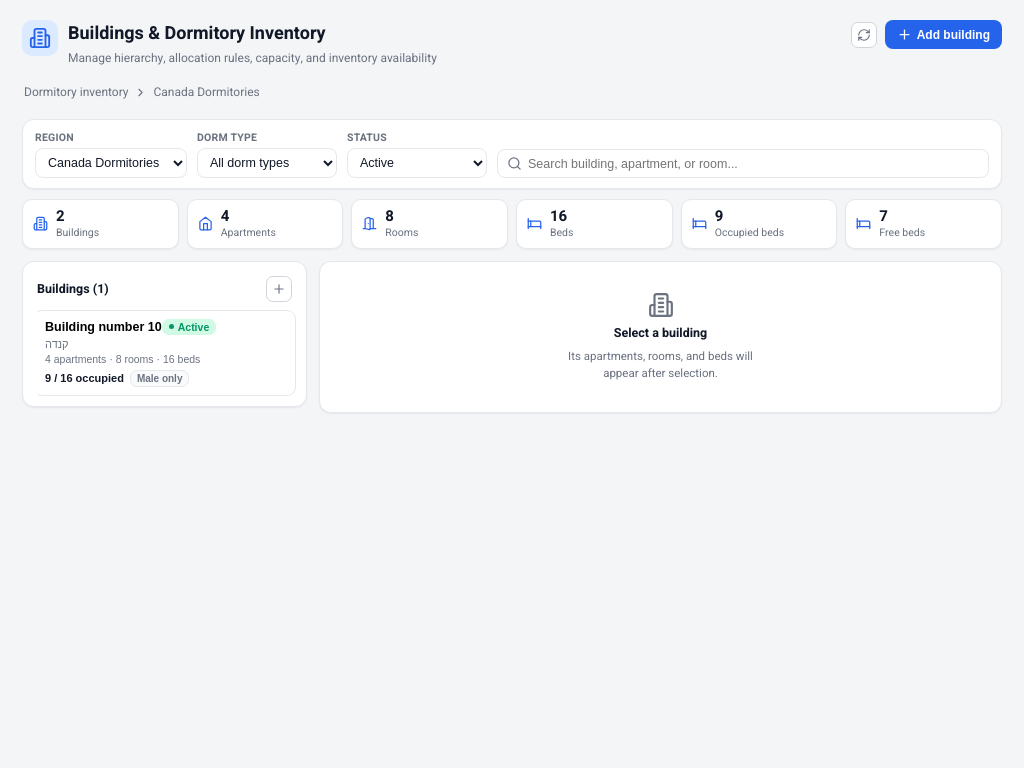
Test: BuildingsPage editors › refuses to save a building without a number
Click the button "Building number 10" at (164, 352), box [33,310,296,396]
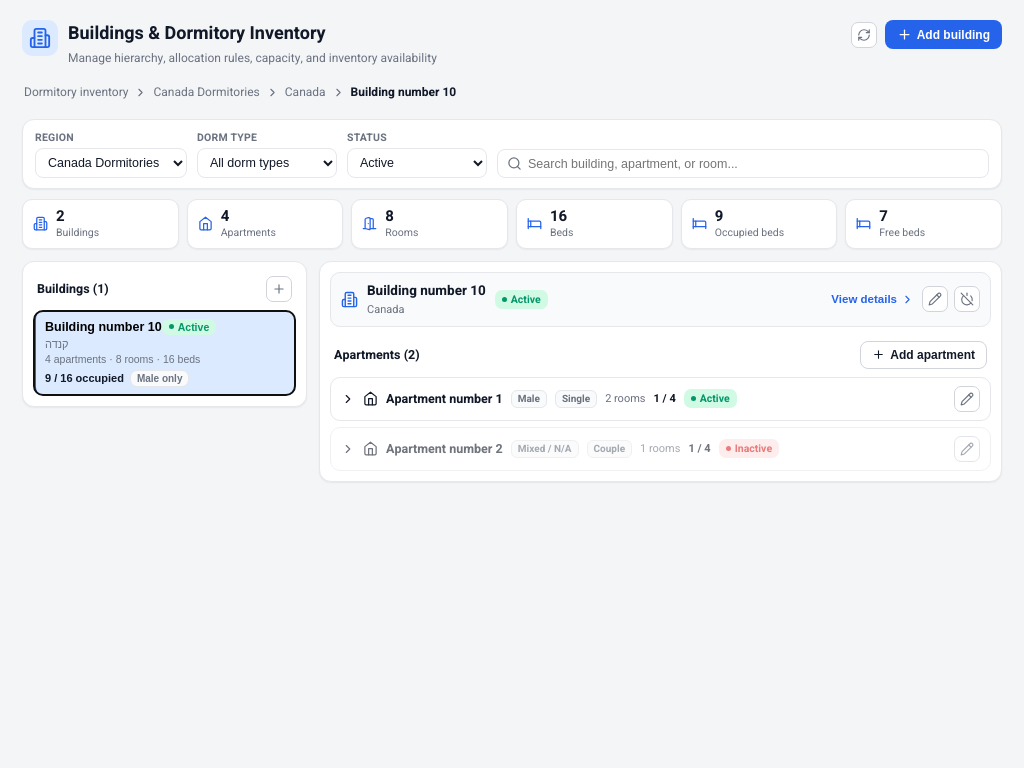
Now the text "Apartment number 1" is shown, box [386,390,503,408]
Click the 1st button named "Edit" at (935, 299), box [922,286,948,312]
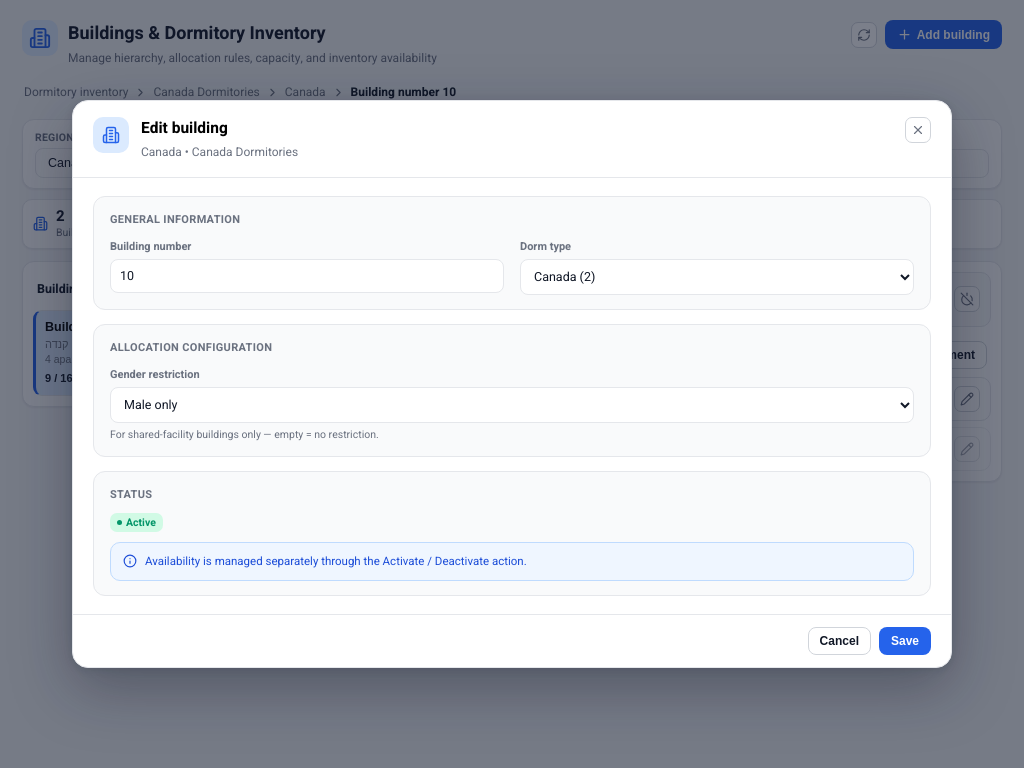
Clear the number field labelled "Building number" at (307, 276), box [110,259,504,293]
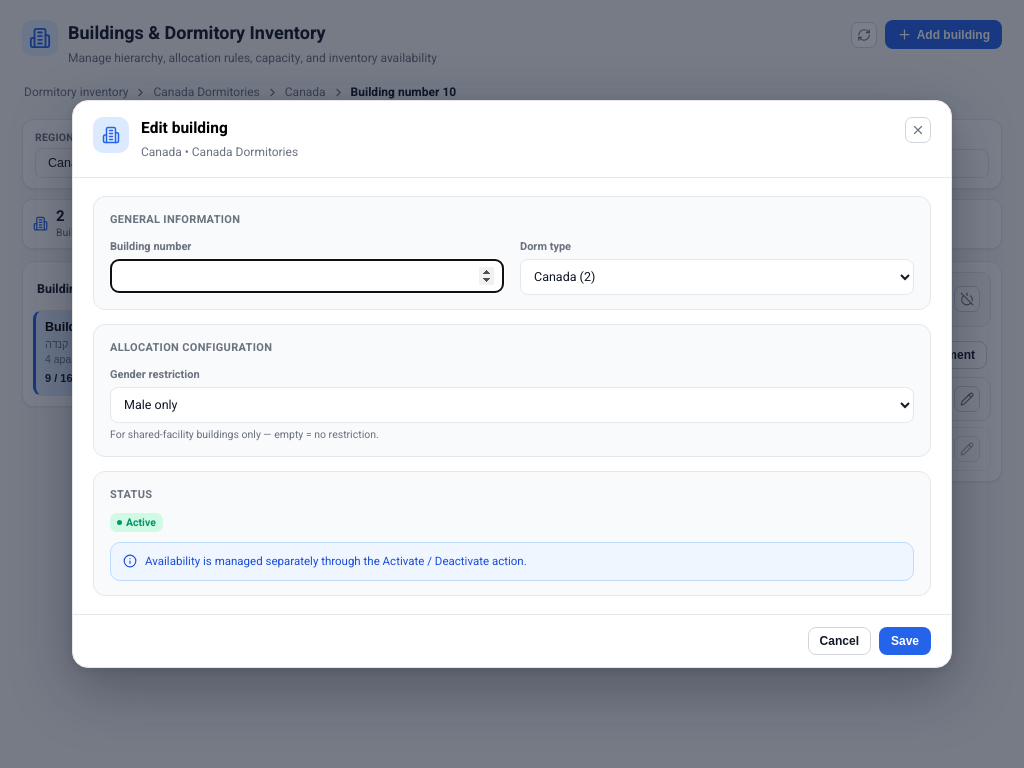
Click the button "Save" at (905, 641), box [879,627,931,655]
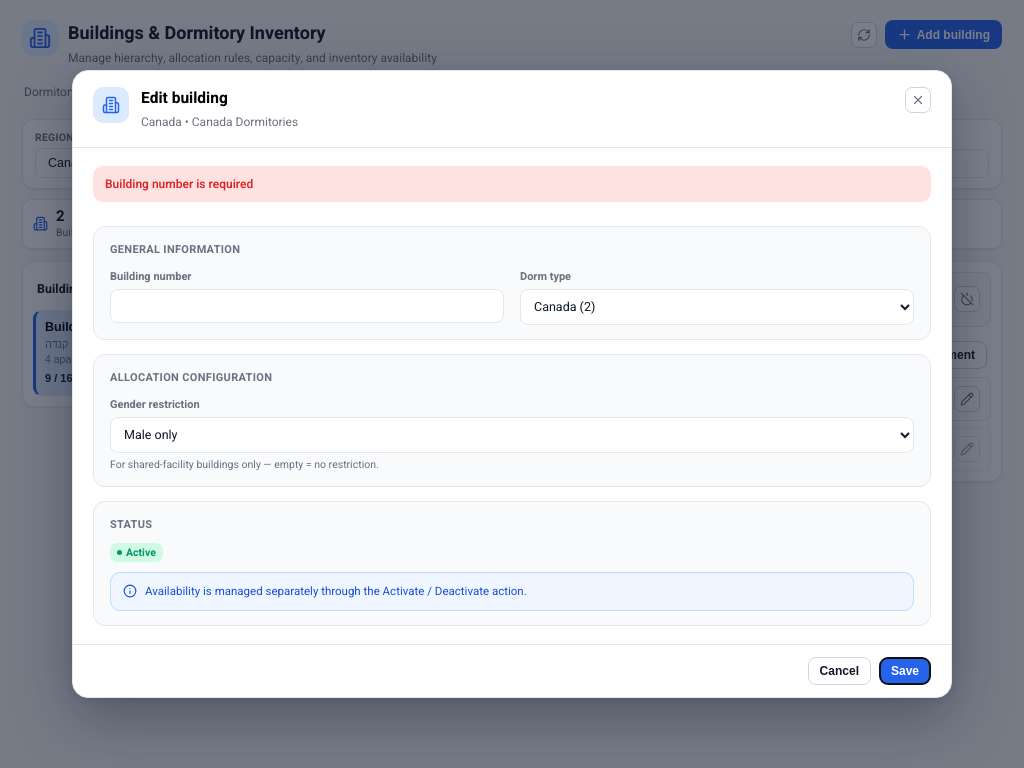
Now the dialog is shown
Now the text "Building number is required" is shown, box [105,175,253,193]
